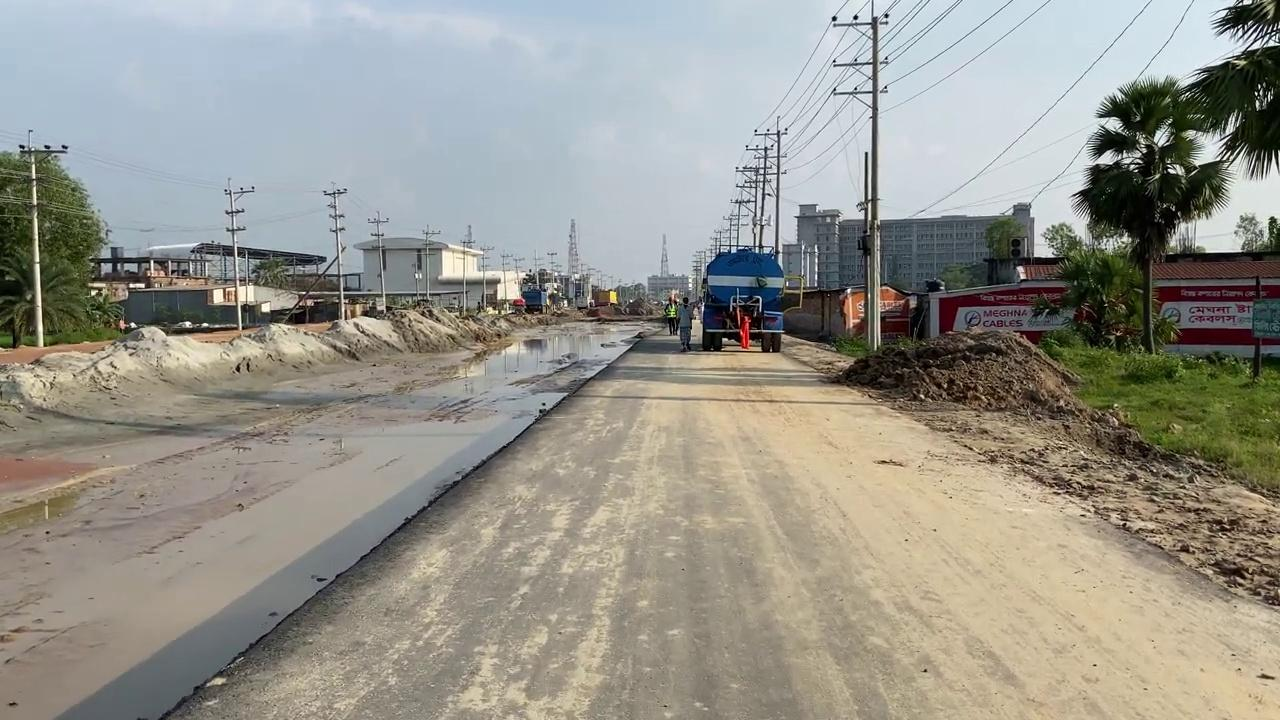Bollard: (698, 246, 786, 352)
Light-pole: (18, 128, 68, 347)
Pole: (865, 2, 885, 351), (222, 177, 254, 330), (26, 129, 44, 347)
Sidewalk: (1, 314, 662, 718)
Traffic-sign: (1069, 73, 1233, 353), (0, 146, 110, 346), (1179, 0, 1279, 181)
Tree: (697, 116, 788, 352), (839, 278, 945, 341)
